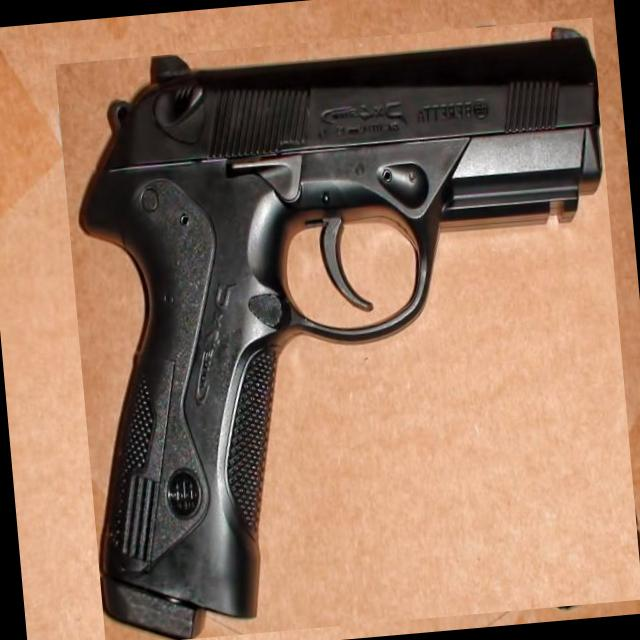Gun: (81, 29, 602, 639)
